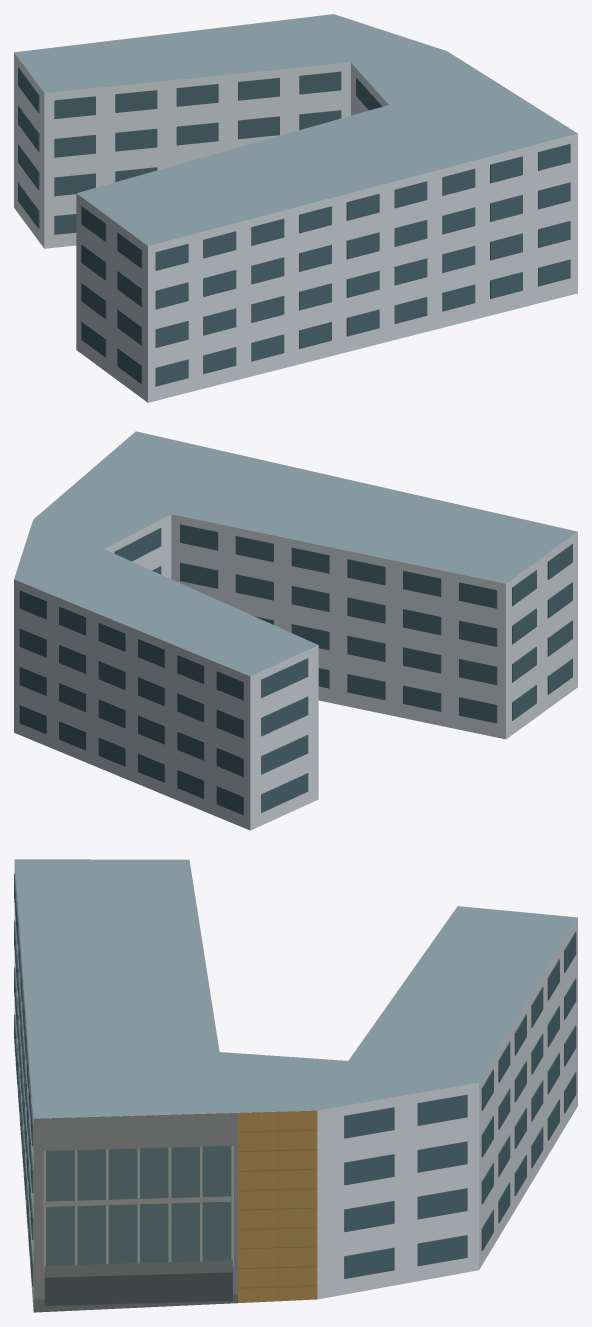
The model's file is intact.glb.
3 views of the same model, one above another, from view 1: azimuth 30°, elevation 25°; view 2: azimuth 150°, elevation 25°; view 3: azimuth 270°, elevation 25° (orthographic). The views are drawn at different scales.
Visible parts, largest first — view 1: SM_press_Intact_00, SM_press_Intact_01; view 2: SM_press_Intact_00, SM_press_Intact_01; view 3: SM_press_Intact_00, SM_press_Intact_01.
Part boxes in pixels (x1,y1,x2,y2): SM_press_Intact_00: [14, 14, 577, 402]; SM_press_Intact_01: [18, 67, 570, 386]; SM_press_Intact_00: [14, 431, 577, 830]; SM_press_Intact_01: [19, 524, 572, 815]; SM_press_Intact_00: [14, 859, 577, 1312]; SM_press_Intact_01: [14, 873, 576, 1286].
Size of the model in its own units: 2.2 by 0.7663 by 2.02.
4 materials, 1 textured.
